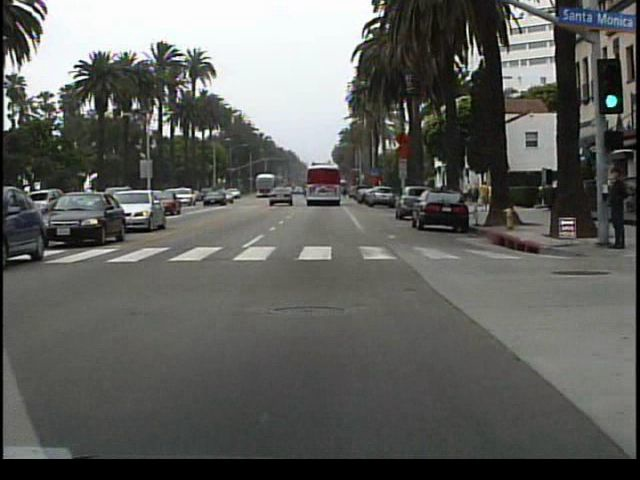person: (599, 157, 628, 250)
